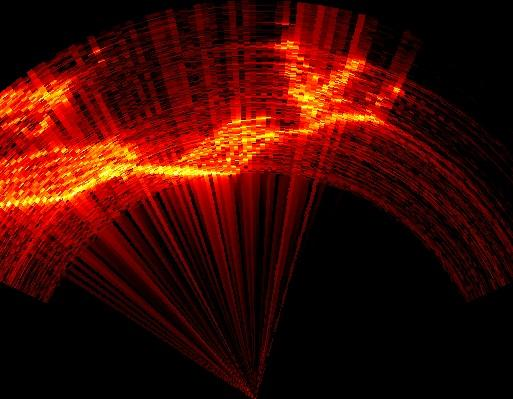shipwreck: (0, 41, 401, 209), (0, 78, 73, 145), (0, 175, 99, 210), (0, 146, 53, 173)
